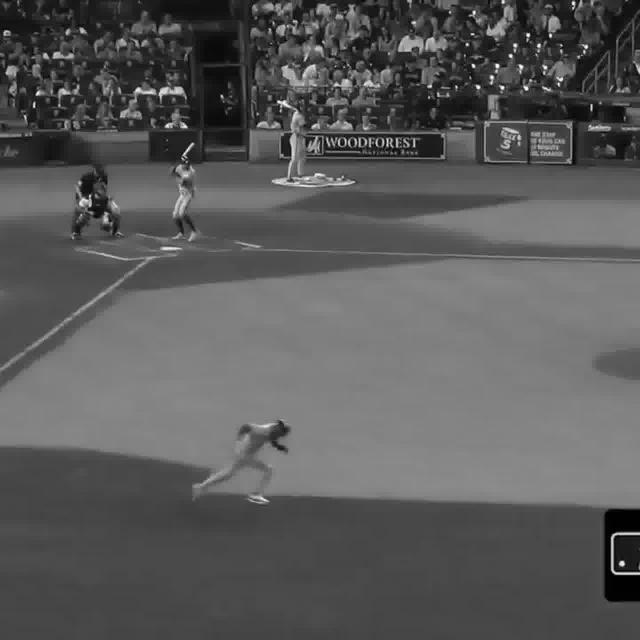base: (161, 245, 181, 252)
bat: (164, 140, 199, 178)
shoe: (192, 484, 205, 501), (247, 495, 269, 505), (188, 231, 200, 241), (110, 230, 124, 238), (72, 232, 84, 241), (172, 233, 186, 240)
